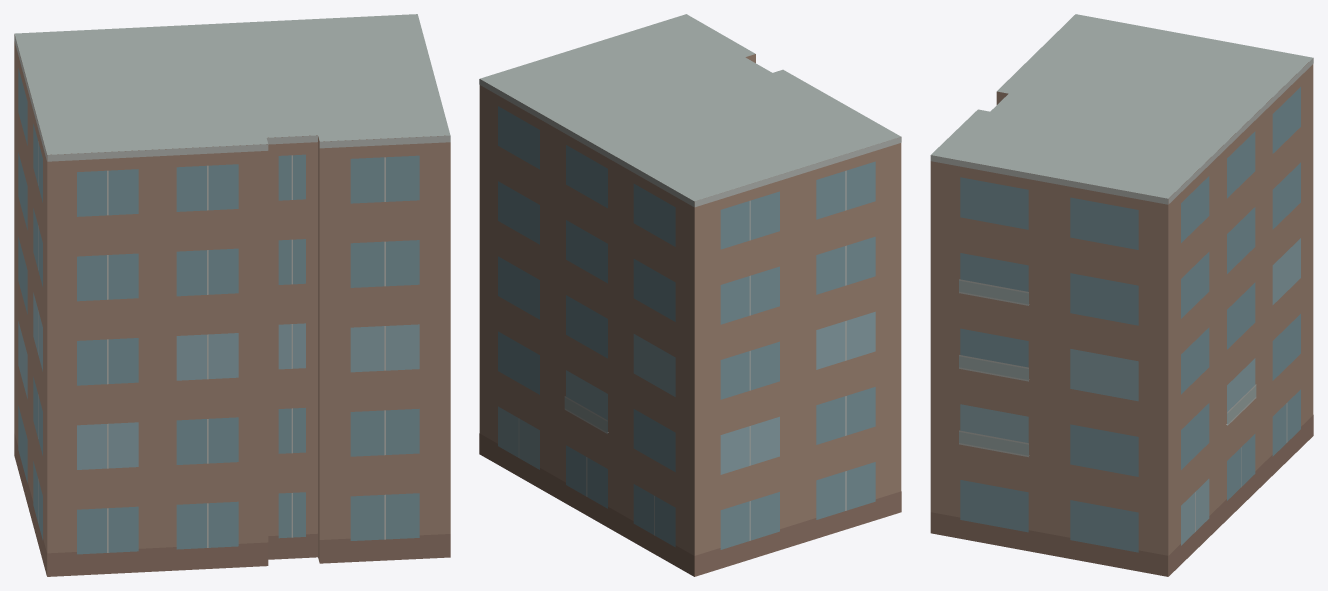
The model's file is survey-upis-32532437.glb.
The picture shows the model from 3 angles, left to right: view 1: azimuth 30°, elevation 25°; view 2: azimuth 150°, elevation 25°; view 3: azimuth 270°, elevation 25°; orthographic projection. The views are drawn at different scales.
Parts seen in each view (by area): view 1: survey-upis-32532437.tmp; view 2: survey-upis-32532437.tmp; view 3: survey-upis-32532437.tmp.
Boxes of the visible parts, x1,y1,x2,y2 form: survey-upis-32532437.tmp: (14, 14, 450, 576); survey-upis-32532437.tmp: (479, 14, 901, 576); survey-upis-32532437.tmp: (930, 14, 1313, 576).
Bounding box in the file's own units: 15.93 × 15.2 × 13.95.
